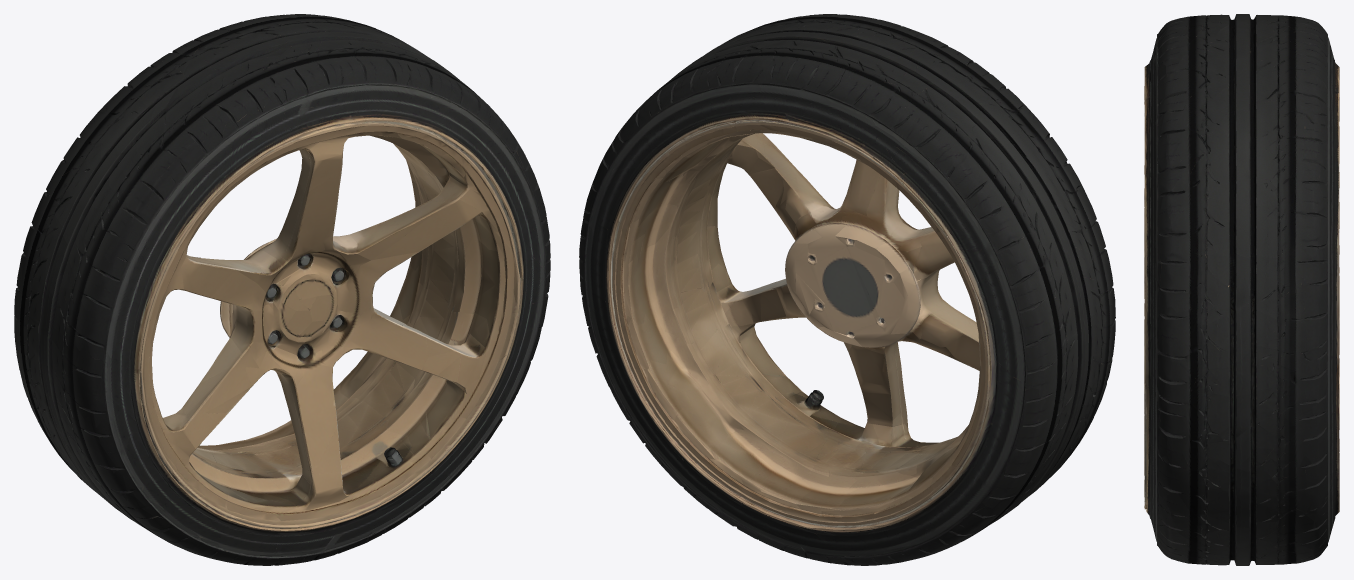
The model's file is teardown-wheel.glb.
3 views of the same model, side by side, from view 1: azimuth 30°, elevation 25°; view 2: azimuth 150°, elevation 25°; view 3: azimuth 270°, elevation 25° (orthographic).
Visible parts, largest first — view 1: Mesh_0; view 2: Mesh_0; view 3: Mesh_0.
Boxes of the visible parts, x1,y1,x2,y2 form: Mesh_0: (14, 14, 550, 565); Mesh_0: (579, 14, 1115, 565); Mesh_0: (1144, 14, 1339, 565).
Size of the model in its own units: 1.9 by 1.9 by 0.672.
1 material, 1 textured.
